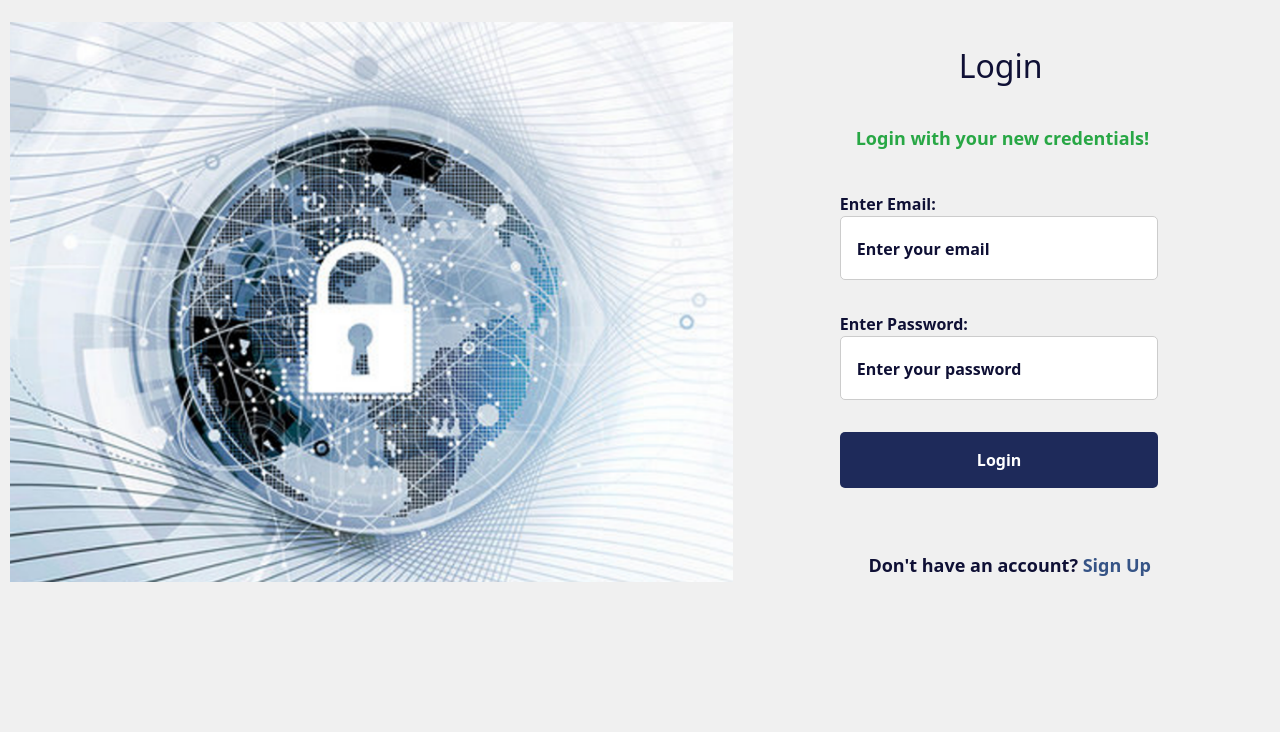
Test: Login Component › handles login failure with no error message
Type "wrong@example.com" into the field with placeholder "Enter your email" at (999, 248), box [840, 216, 1158, 280]
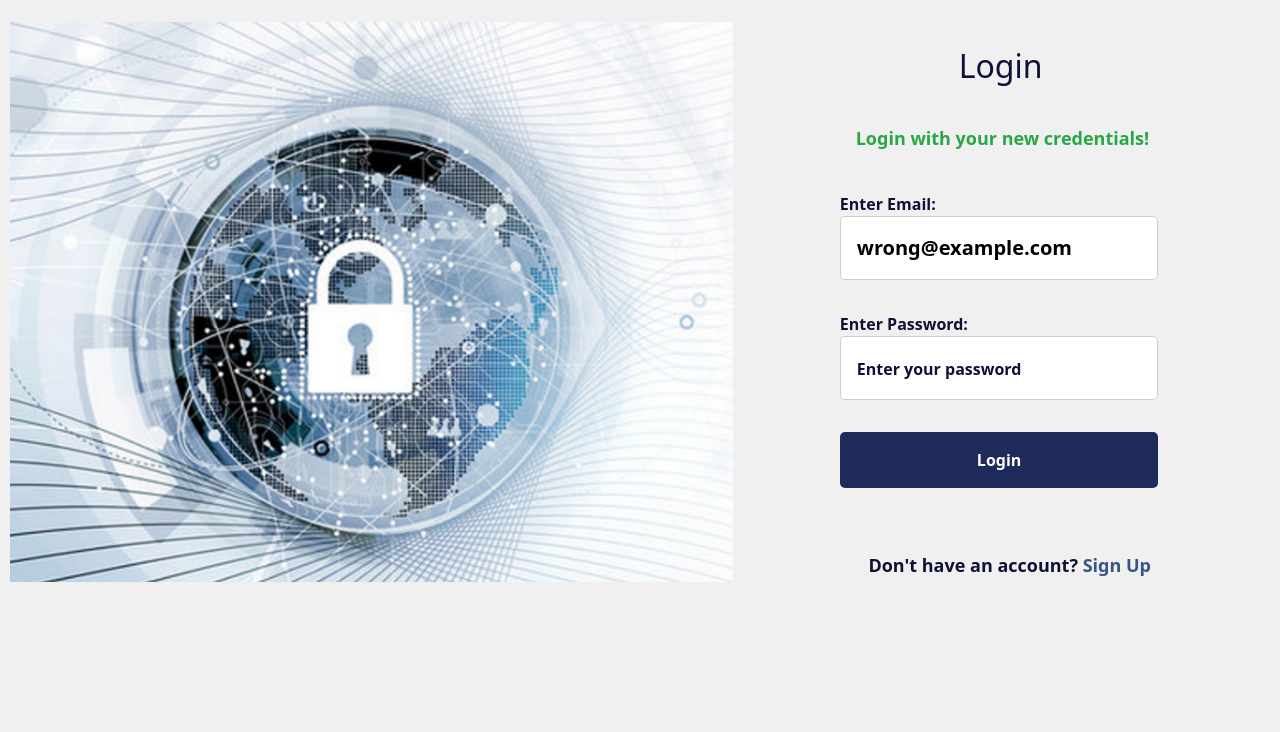
Type "wrongpassword" into the password field with placeholder "Enter your password" at (999, 368), box [840, 336, 1158, 400]
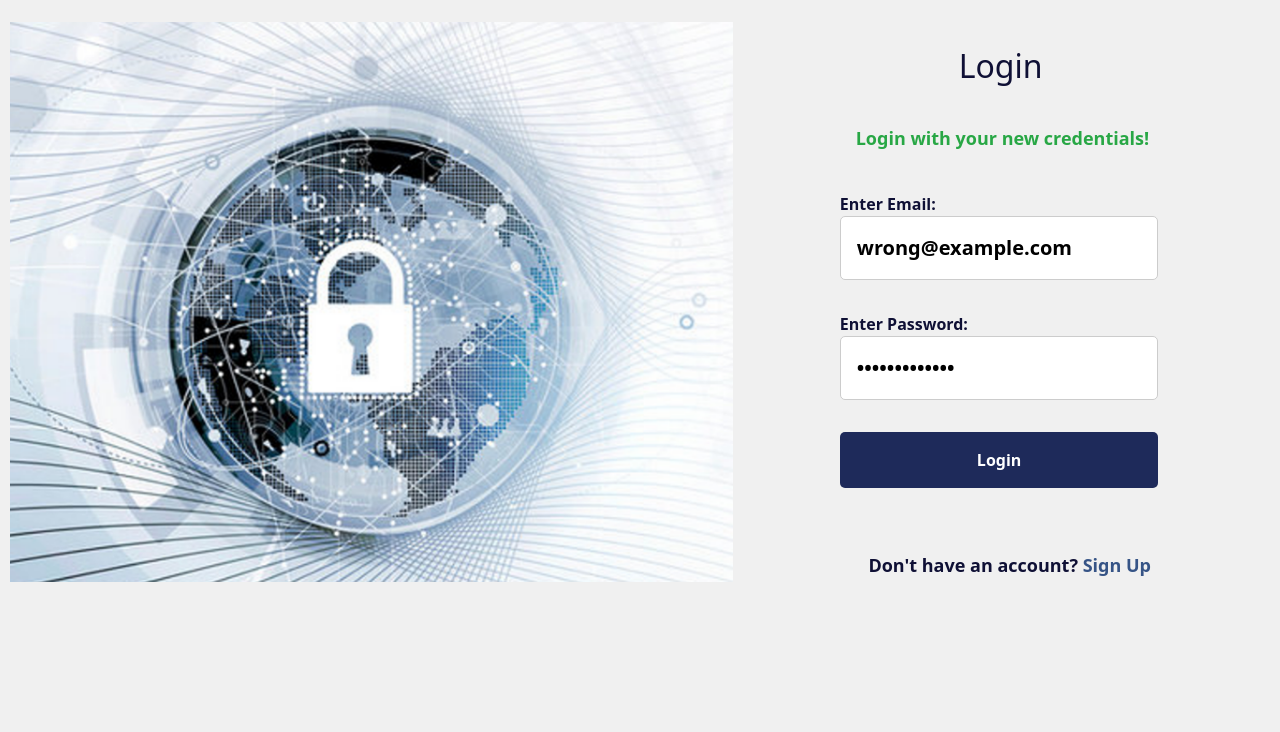
Click the button "Login" at (999, 460), box [840, 432, 1158, 488]
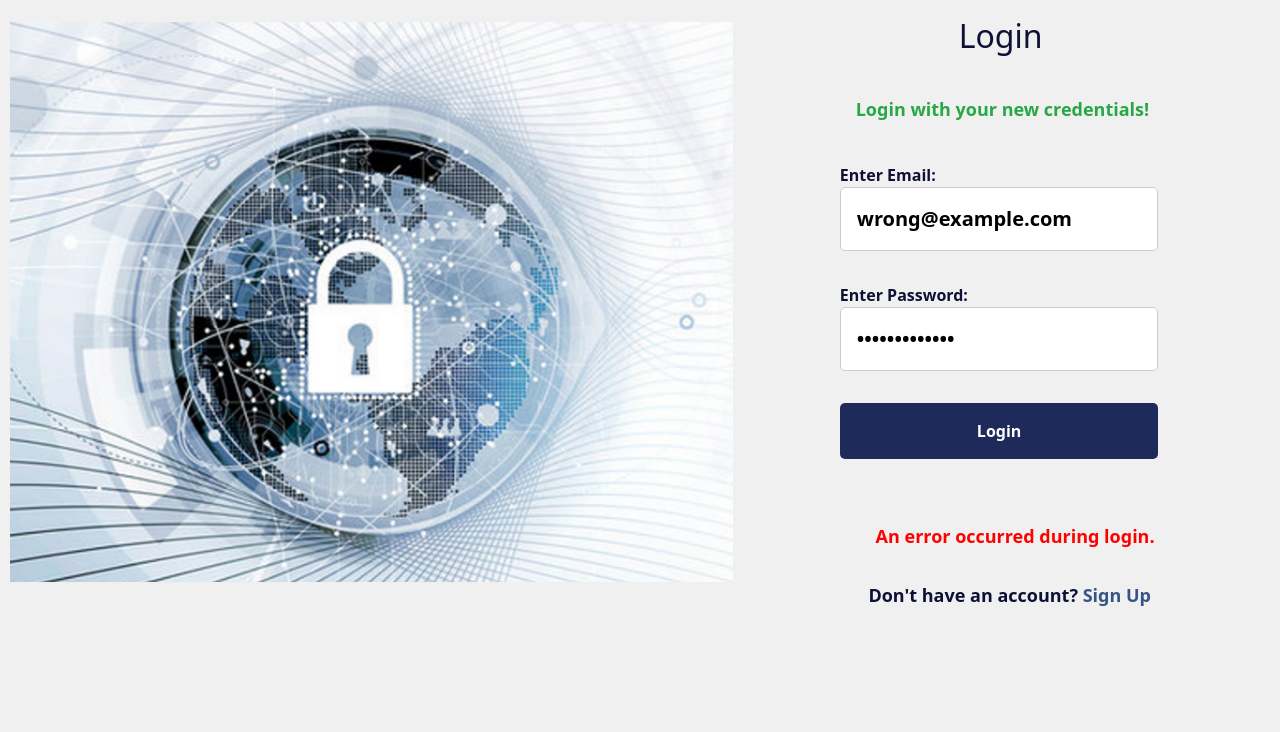
Expected: the text "An error occurred during login." is shown, [876, 524, 1155, 548]
